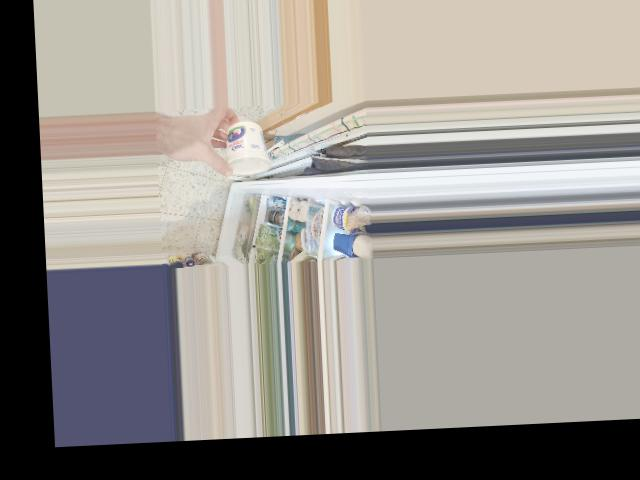cotage: (212, 114, 272, 180)
